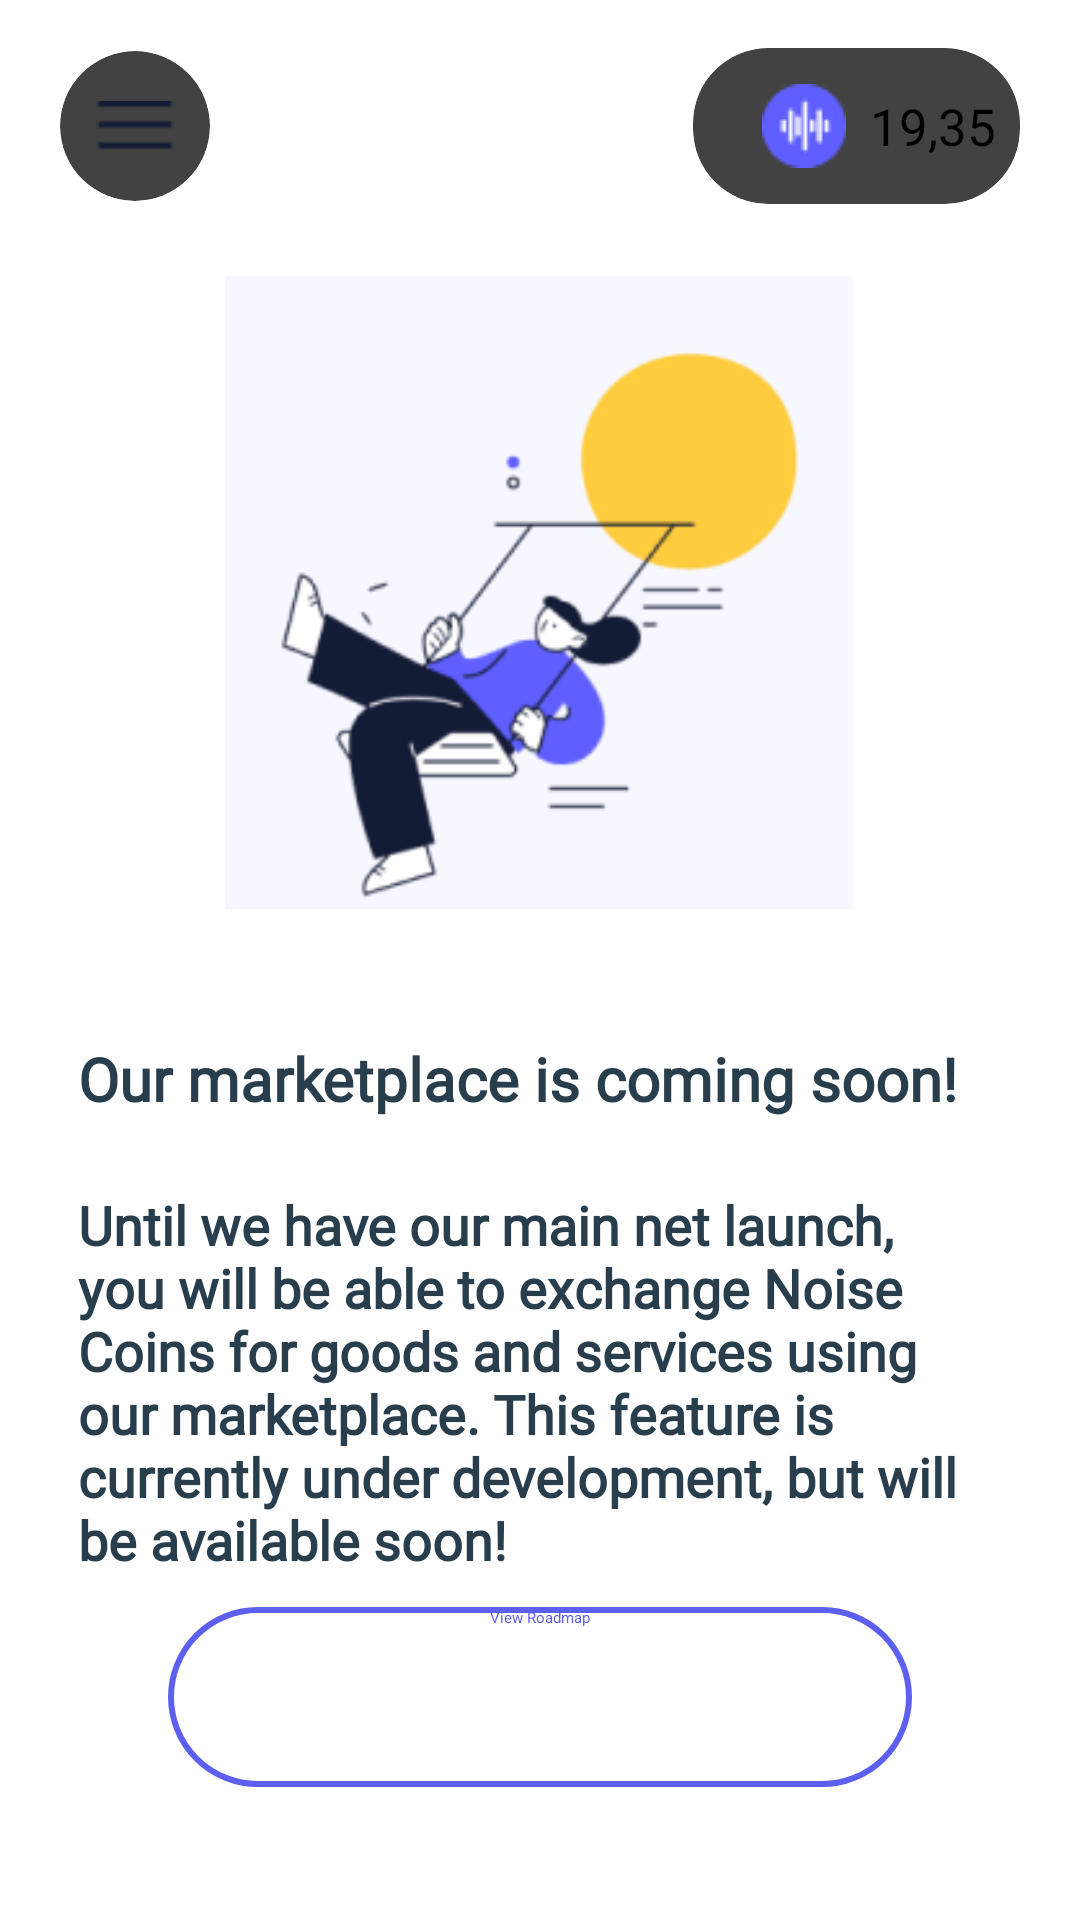

Icon click points for this 1080w x 1920h phone screenshot, format (x=x, y=y):
navigationmenu: (x=135, y=126)
